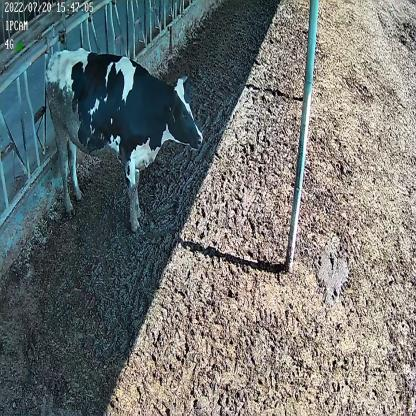cow: (47, 47, 202, 230)
